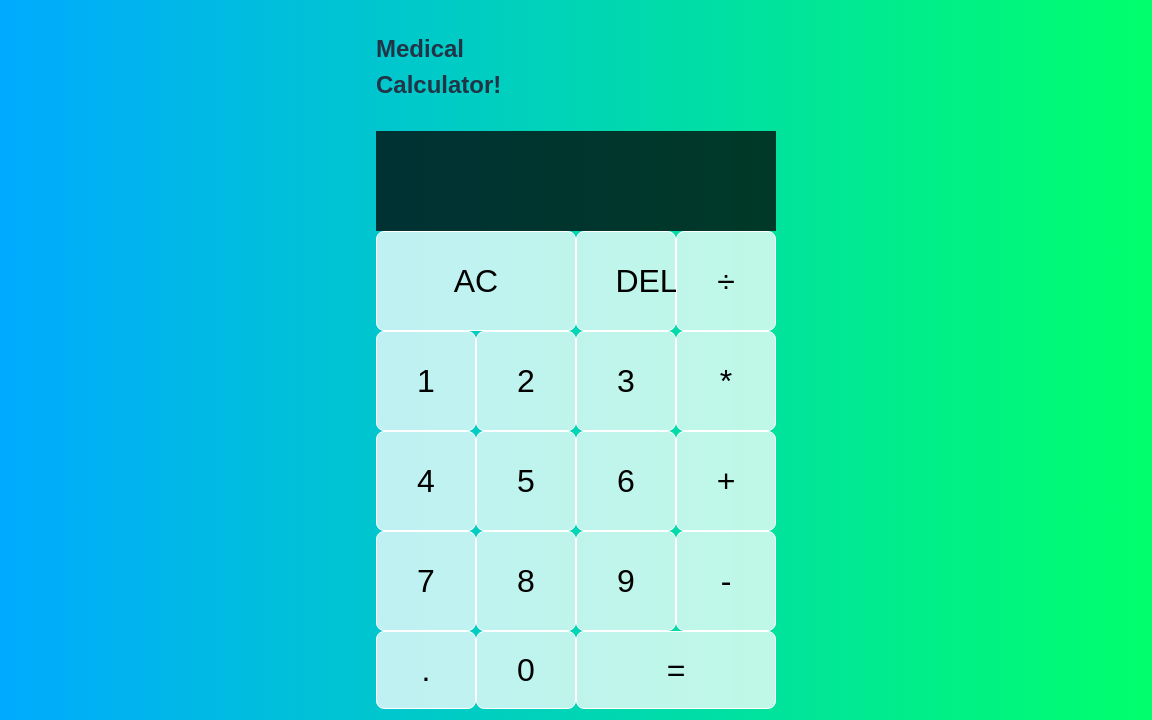
Scenario: Calculator App › performs subtraction correctly
The image size is (1152, 720).
Click the button "5" at (526, 481), box [476,431,576,531]
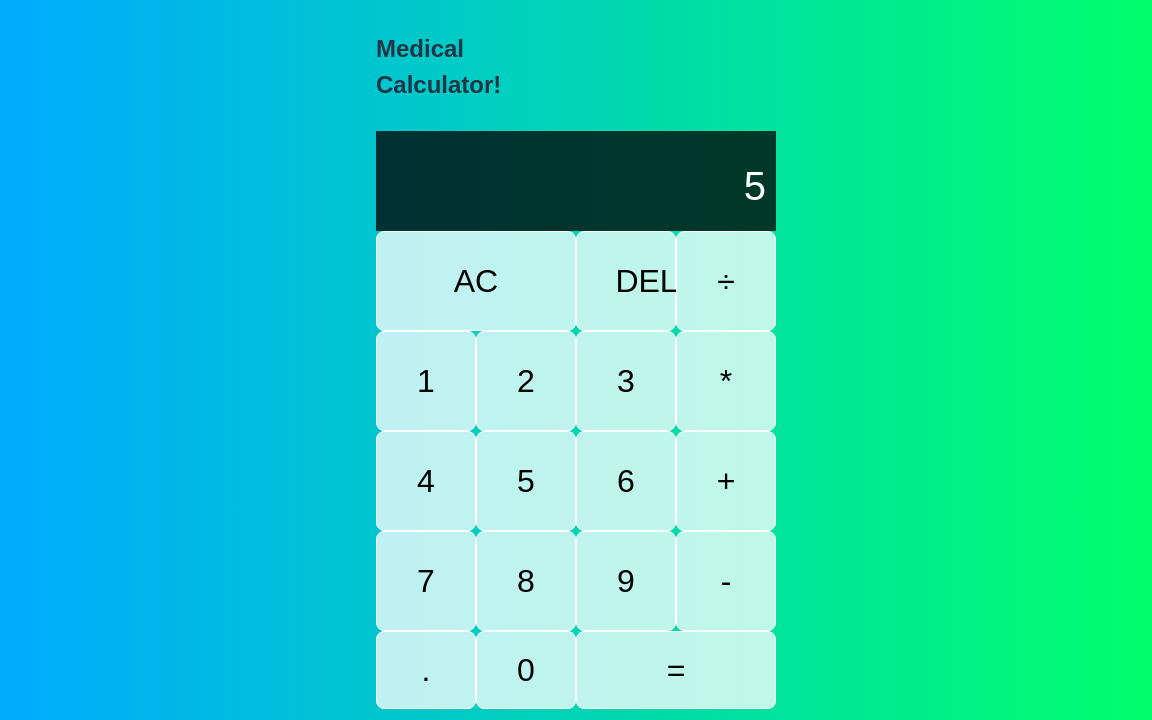
Click the button "-" at (726, 581), box [676,531,776,631]
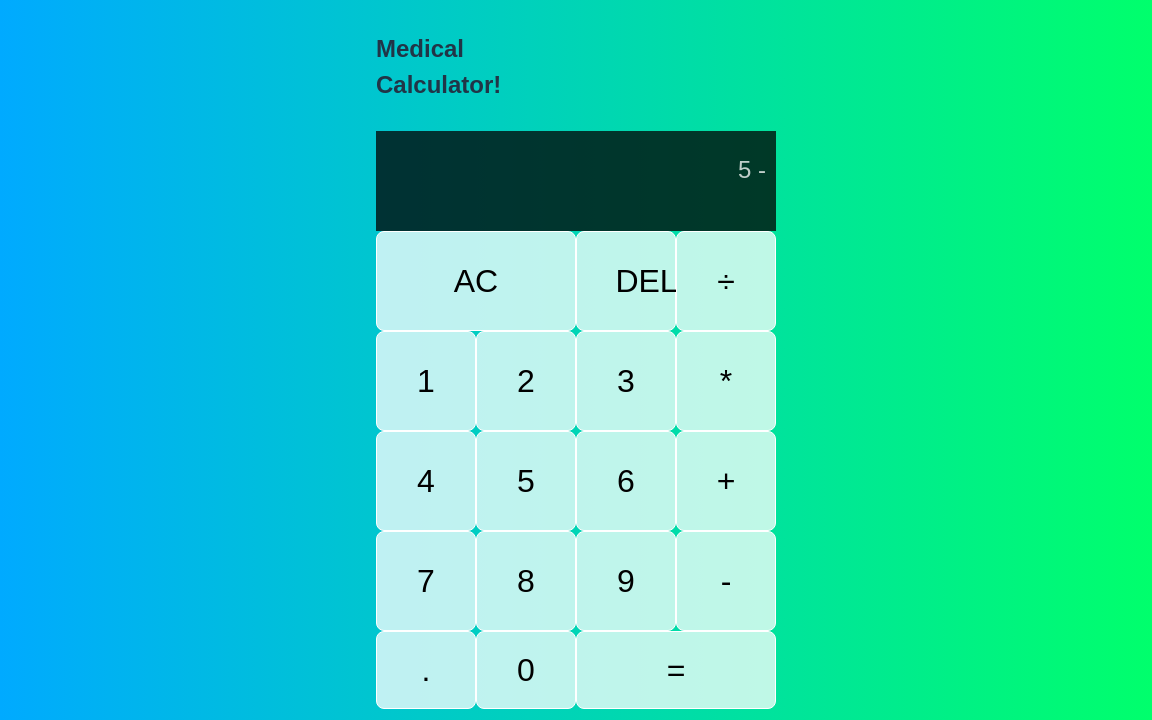
Click the button "2" at (526, 381), box [476,331,576,431]
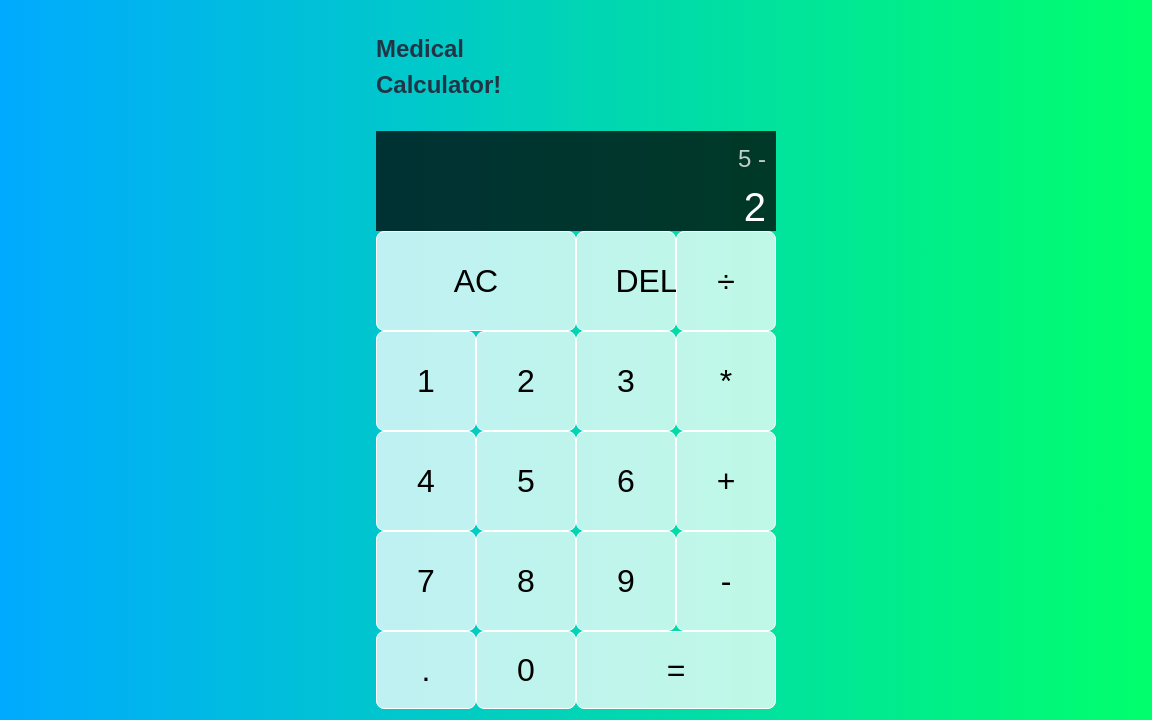
Click the button "=" at (676, 670), box [576,631,776,709]
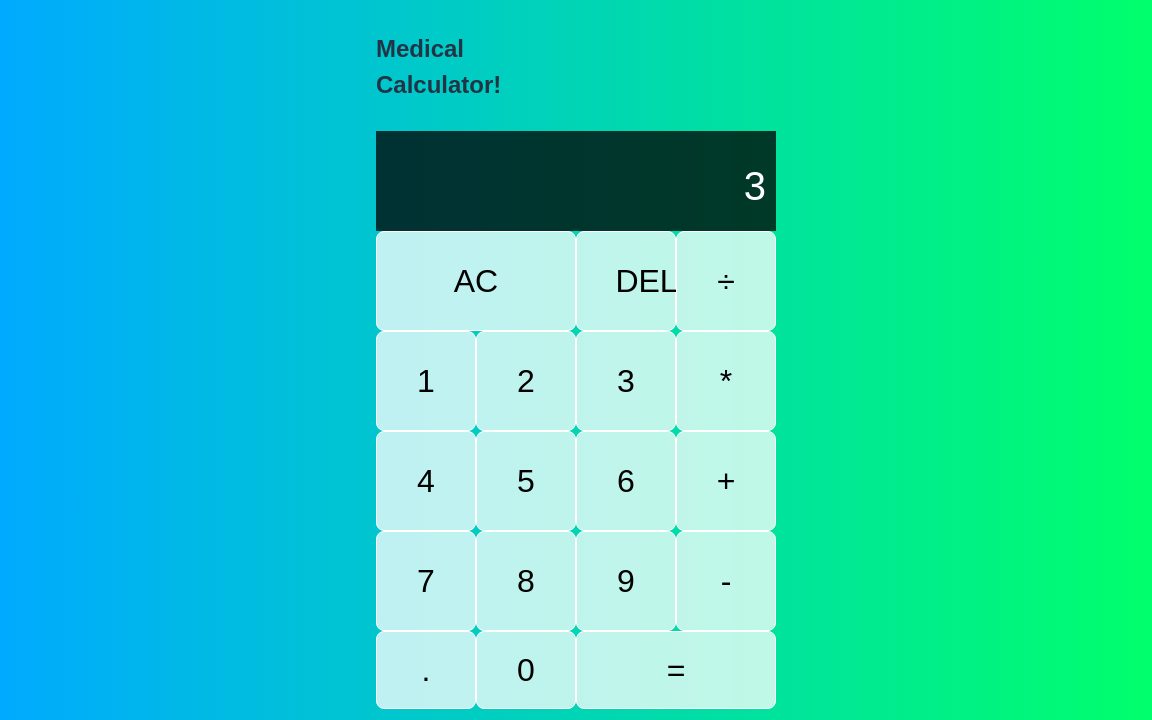
Result: the text with test id "display" reads "3" at [744,164,766,208]
